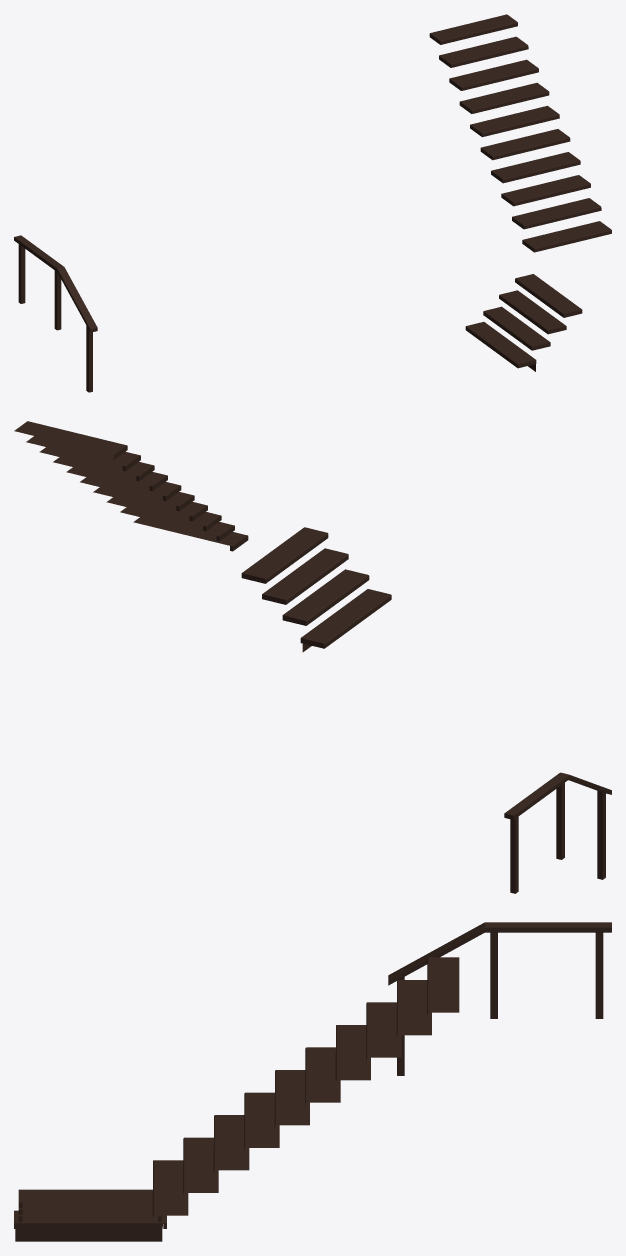
The model's file is Subsurfed_Porch.021.obj.
The picture shows the model from 3 angles, top to bottom: view 1: azimuth 30°, elevation 25°; view 2: azimuth 150°, elevation 25°; view 3: azimuth 270°, elevation 25°; orthographic projection. The views are drawn at different scales.
Visible parts, largest first — view 1: Subsurfed_Porch.021_Cube.001; view 2: Subsurfed_Porch.021_Cube.001; view 3: Subsurfed_Porch.021_Cube.001.
Boxes of the visible parts, x1,y1,x2,y2 form: Subsurfed_Porch.021_Cube.001: [14, 14, 611, 392]; Subsurfed_Porch.021_Cube.001: [14, 421, 611, 893]; Subsurfed_Porch.021_Cube.001: [14, 922, 611, 1241].
Size of the model in its own units: 7.07 by 3.92 by 5.68.
